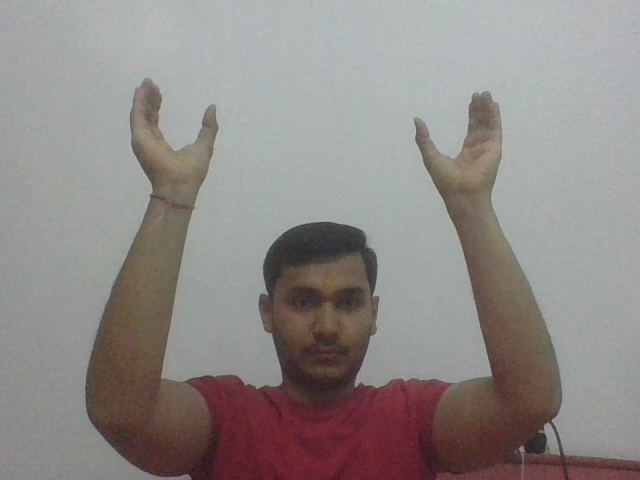U: (124, 71, 226, 192), (411, 88, 509, 202)
